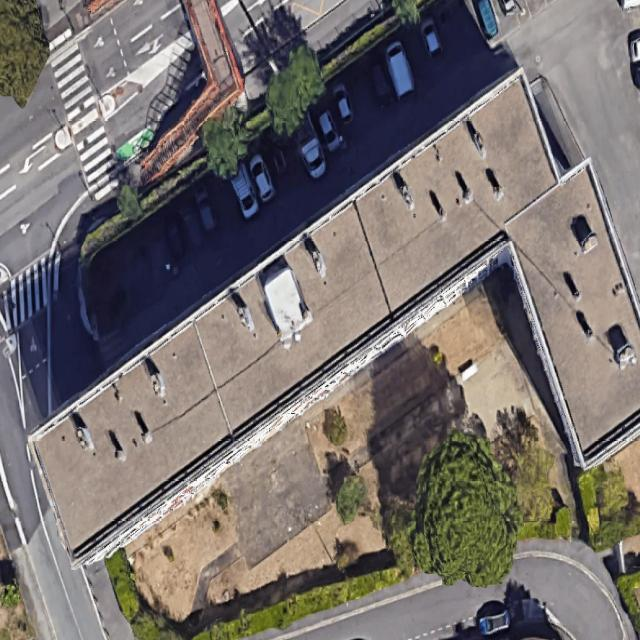immeuble: (0, 61, 640, 640)
